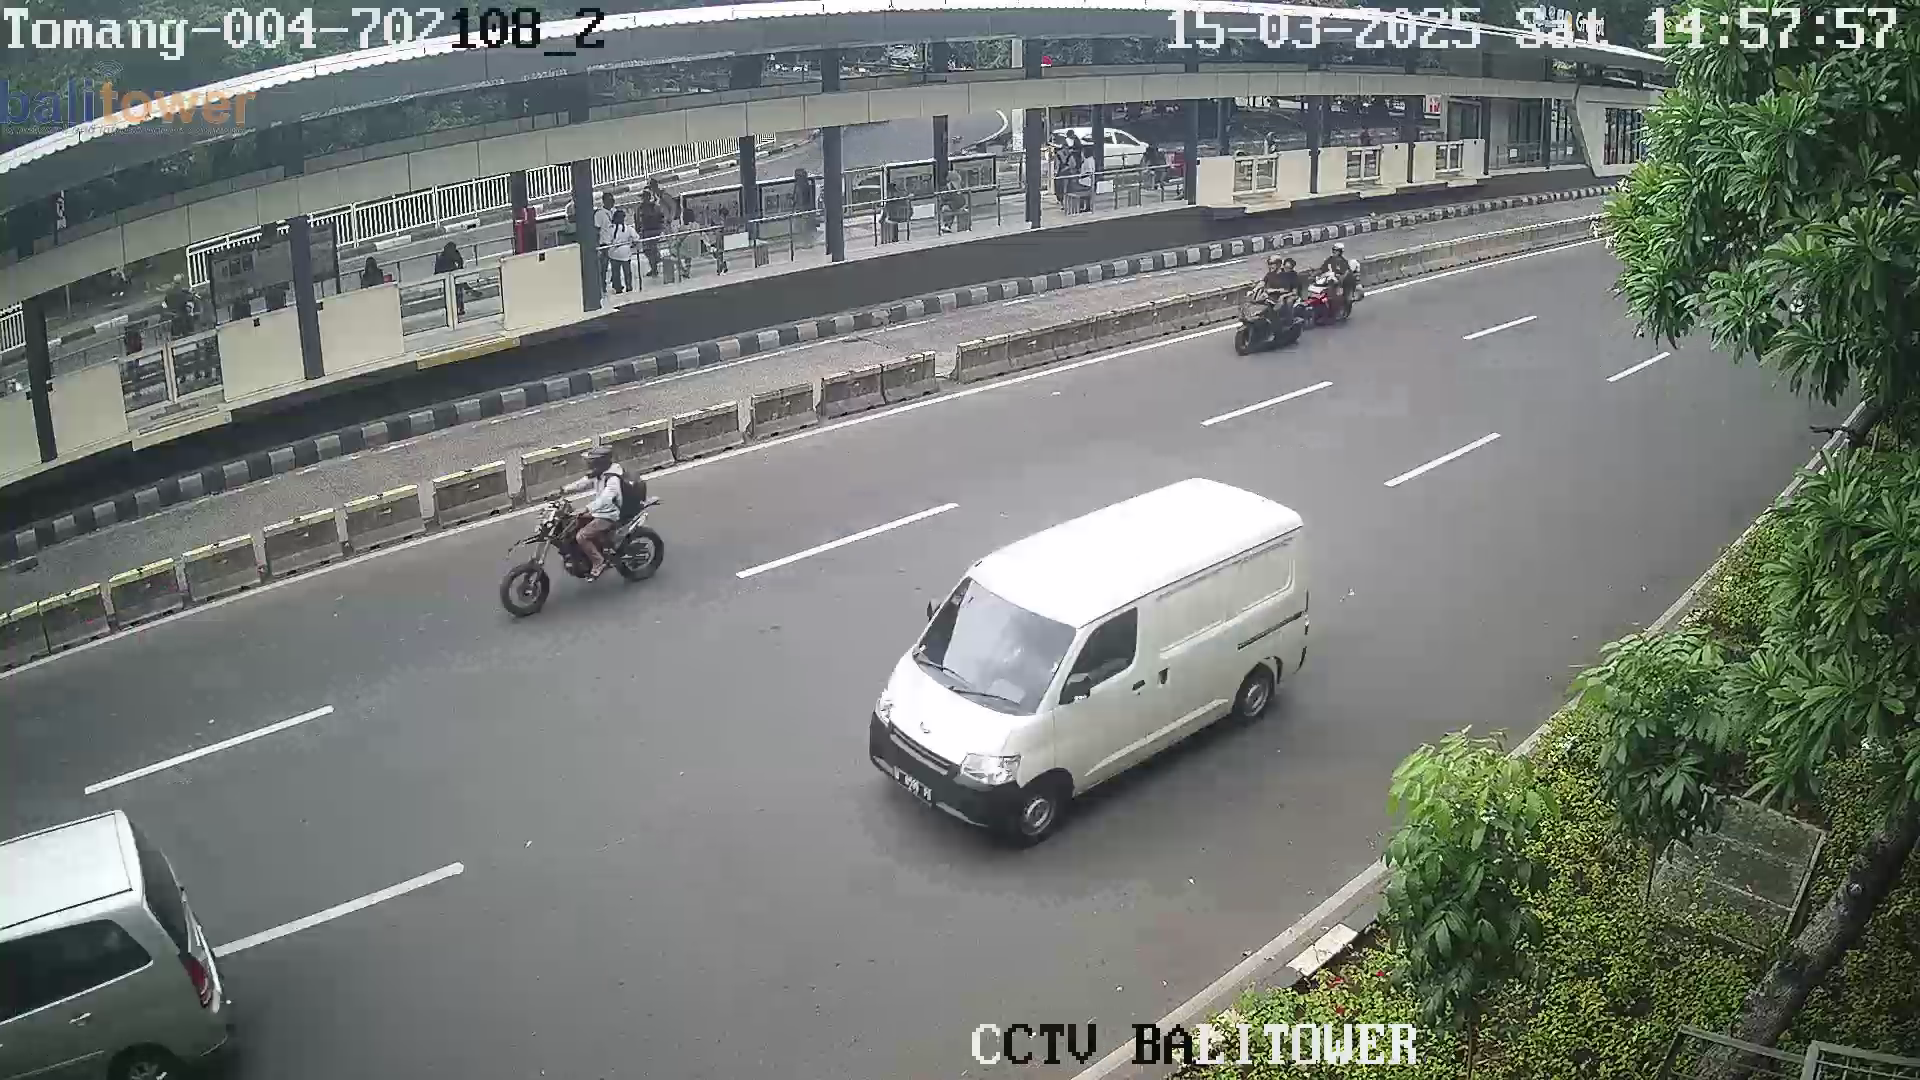full-face helmet: (578, 441, 617, 482)
half-face helmet: (1261, 253, 1278, 278), (1329, 241, 1349, 259)
no helmet: (1284, 253, 1300, 276)
